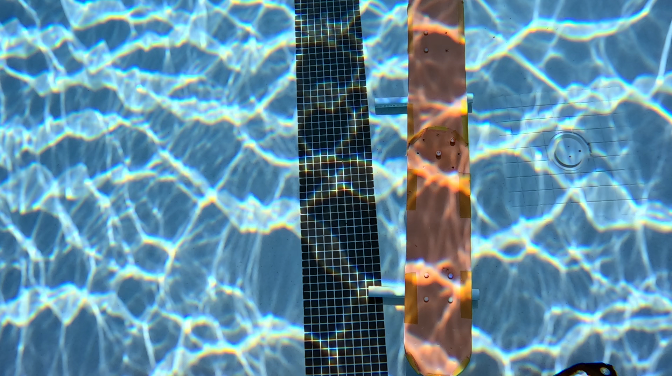pathmarker: (405, 0, 471, 375)
sandbag: (555, 363, 616, 375)
